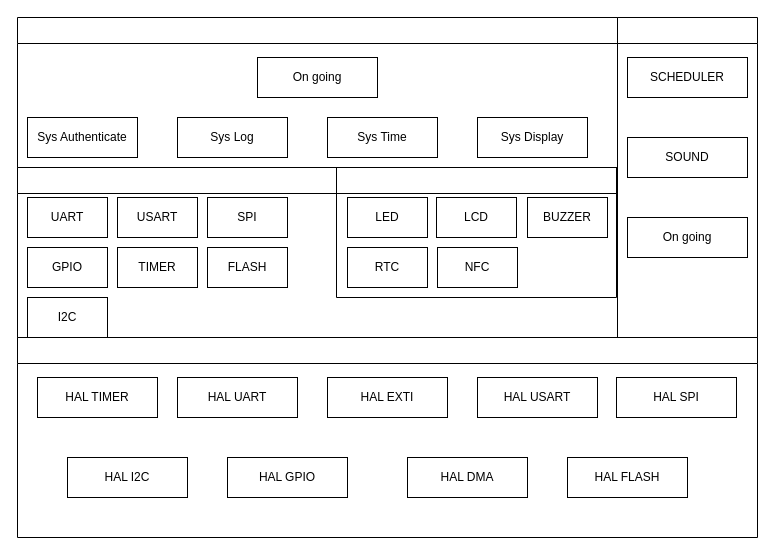
The diagram is 775 pixels wide and 555 high, and some of its shapes have lost their labels. Each missing label, with the box of its shape:
Application Layer: (16, 16, 618, 168)
Board Support Package (BSP): (16, 166, 618, 338)
Driver: (336, 166, 616, 298)
Hardware Abstraction Layer (HAL): (16, 336, 758, 538)
Middleware & Library: (616, 16, 758, 338)
